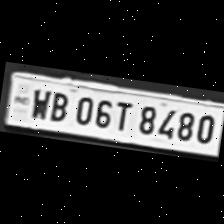0: (70, 92, 96, 126), (192, 110, 218, 144)
4: (153, 104, 177, 140)
6: (91, 94, 115, 129)
8: (132, 100, 159, 137), (174, 108, 196, 143)
B: (45, 86, 72, 122)
T: (110, 96, 136, 132)
W: (25, 84, 52, 121)
